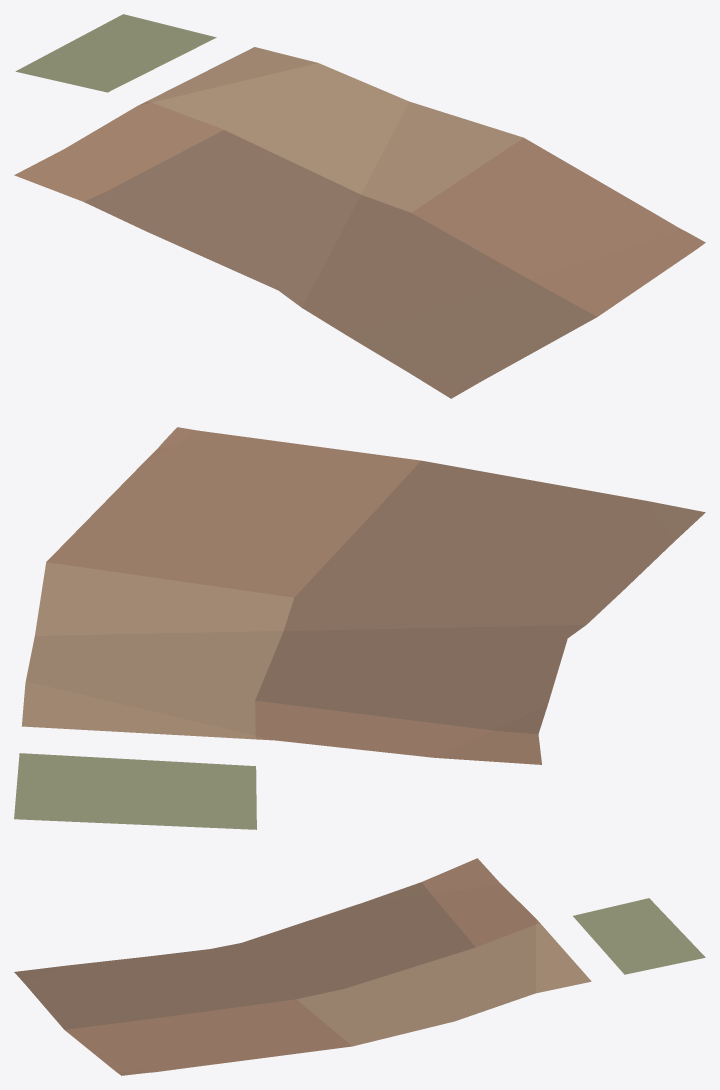
File: farm_0_18_soil.glb
The picture shows the model from 3 angles, top to bottom: view 1: azimuth 30°, elevation 25°; view 2: azimuth 150°, elevation 25°; view 3: azimuth 270°, elevation 25°; orthographic projection. The views are drawn at different scales.
Visible parts, largest first — view 1: geometry_0; view 2: geometry_0; view 3: geometry_0.
Part boxes in pixels (x1,y1,x2,y2): geometry_0: (14,14,705,398); geometry_0: (14,427,705,829); geometry_0: (14,858,705,1075).
Size of the model in its own units: 95.26 by 12.14 by 143.
